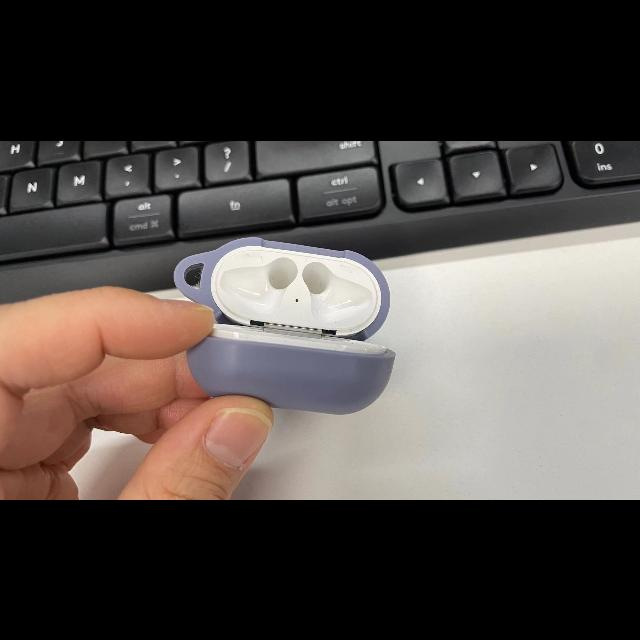airpods: (173, 236, 395, 415)
